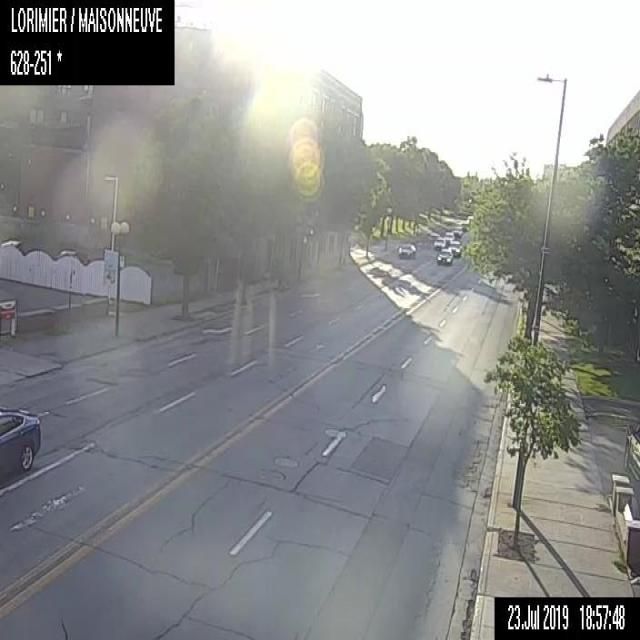vehicle: (0, 404, 41, 484), (436, 247, 452, 264), (448, 240, 462, 257), (398, 244, 415, 257), (432, 236, 446, 249), (444, 231, 457, 243)
